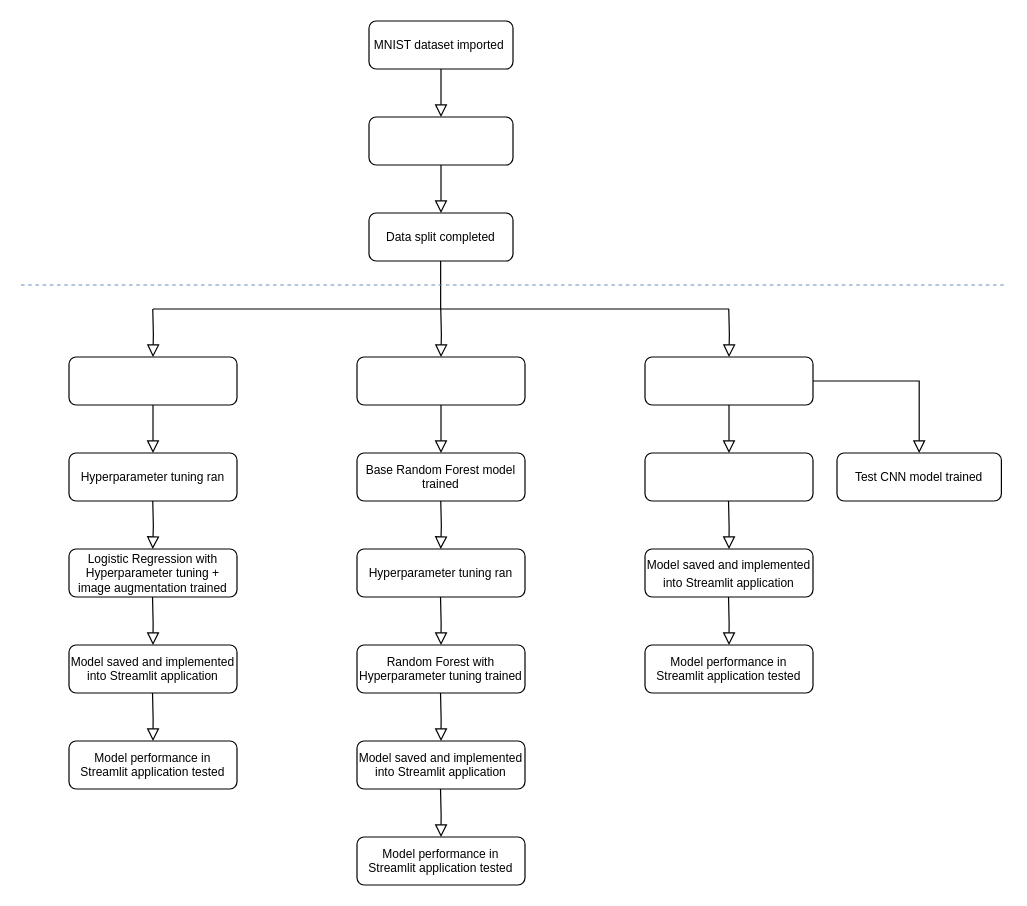
Image size: 1027x906. Some labels were removed from this diagram. The shapes that lost their labels are listed below. From the top down, each one's centre as x and y in pixels, then its label:
[440,140]: EDA undertaken
[152,380]: Base Logistic Regression model trained
[440,380]: Data transformed for Random Forest
[728,380]: Data transformed for CNN
[728,476]: CNN Model trained with data augmentation and additional epochs
